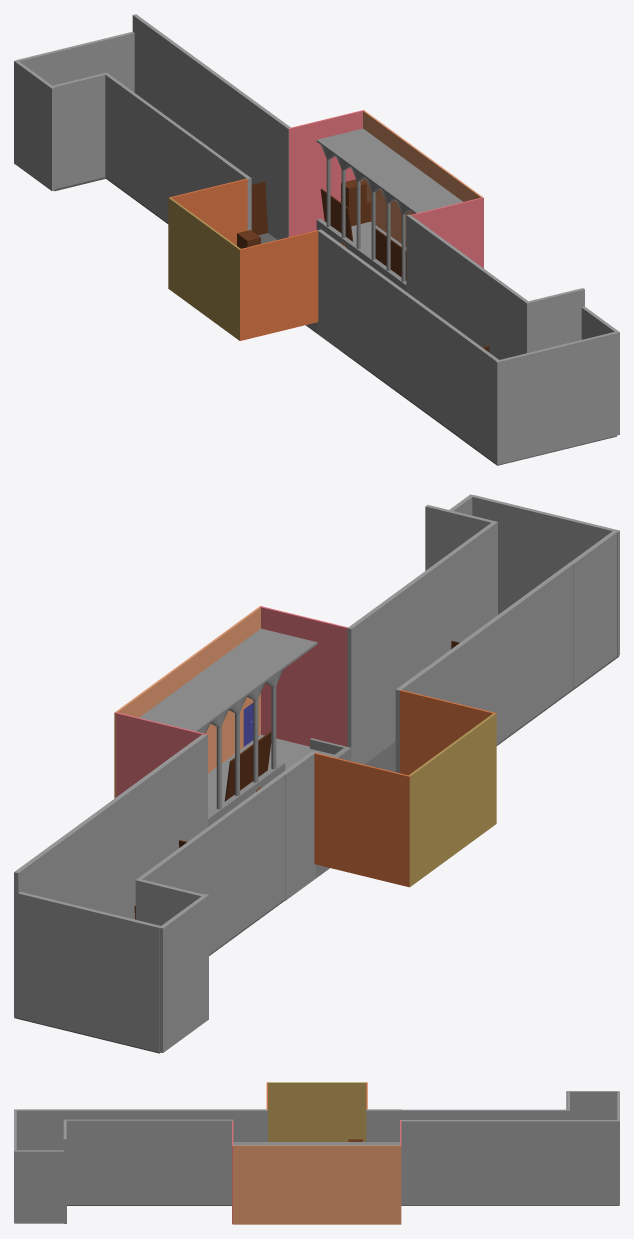
File: PavlovPK_SanatoriniMap.fbx
The picture shows the model from 3 angles, top to bottom: view 1: azimuth 30°, elevation 25°; view 2: azimuth 150°, elevation 25°; view 3: azimuth 270°, elevation 25°; orthographic projection. The views are drawn at different scales.
Parts seen in each view (by area): view 1: Cube, Cube.006, Cube.034, Cube.035; view 2: Cube, Cube.034; view 3: Cube.
Part boxes in pixels (bbox=[...]): Cube: bbox=[14, 14, 619, 465]; Cube.006: bbox=[251, 181, 267, 235]; Cube.034: bbox=[375, 228, 406, 280]; Cube.035: bbox=[320, 188, 353, 241]; Cube: bbox=[14, 494, 619, 1053]; Cube.034: bbox=[224, 731, 271, 801]; Cube: bbox=[14, 1082, 619, 1224].
Bounding box in the file's own units: 3225 × 1715 × 10948.
